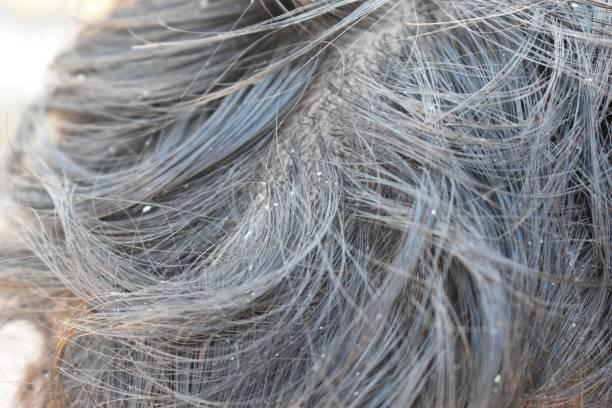dandruff: (247, 172, 298, 228), (123, 198, 162, 224), (486, 368, 509, 400), (520, 231, 552, 254), (136, 132, 163, 156), (304, 161, 331, 178), (176, 176, 198, 194), (419, 204, 438, 222), (196, 54, 214, 71), (371, 306, 383, 330), (69, 70, 90, 83), (238, 263, 259, 276), (215, 212, 234, 226), (312, 324, 329, 335), (270, 346, 282, 361)
